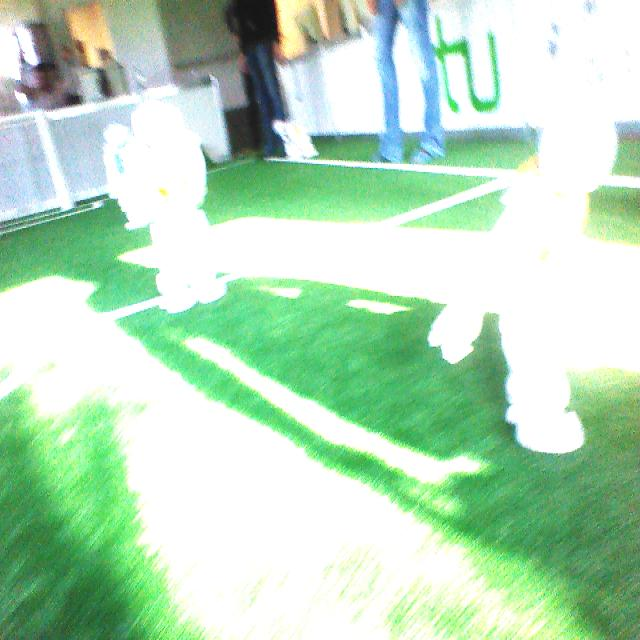goalpost: (33, 111, 75, 213)
